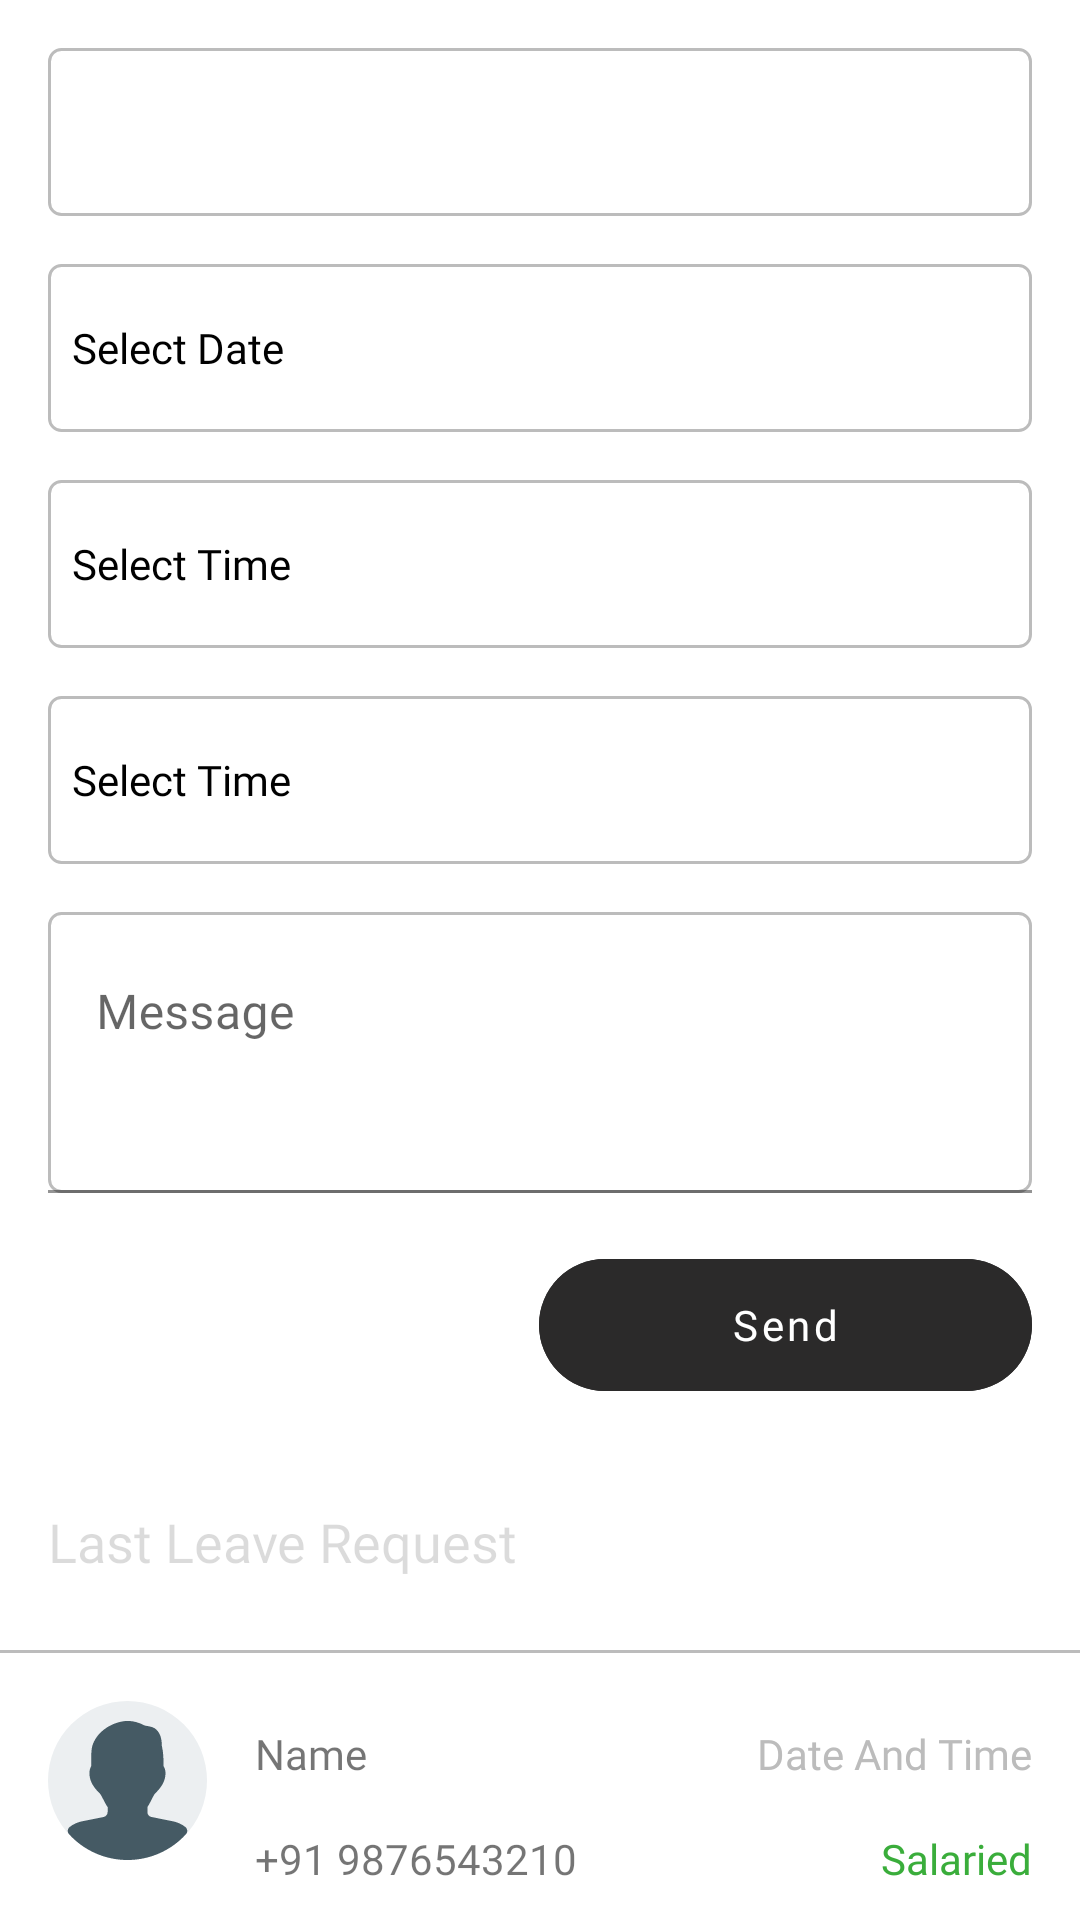

Where icons sit on this 1080*1920 app screen, as (x1, y1, x2, y2):
user: (67, 1721, 188, 1860)
